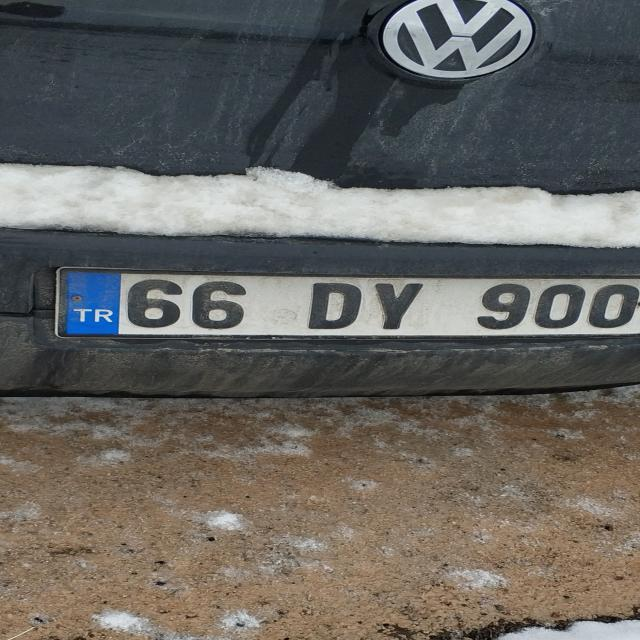plate: (52, 268, 640, 339)
